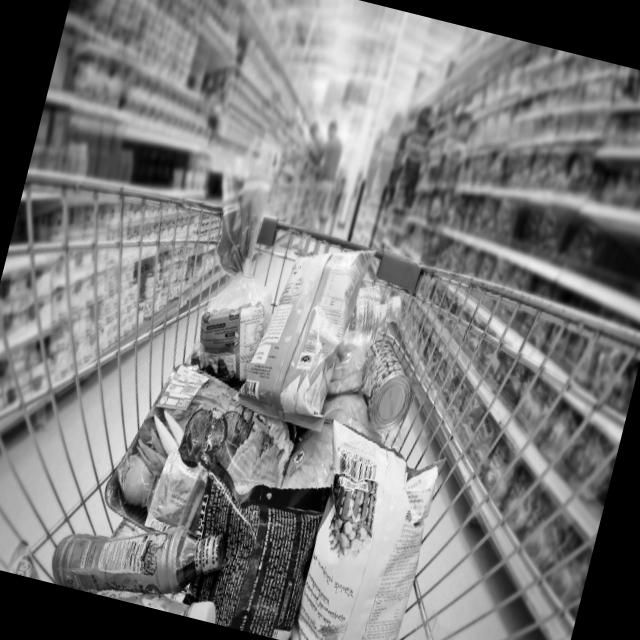banh mi: (181, 176, 304, 384)
dau: (344, 276, 404, 340)
